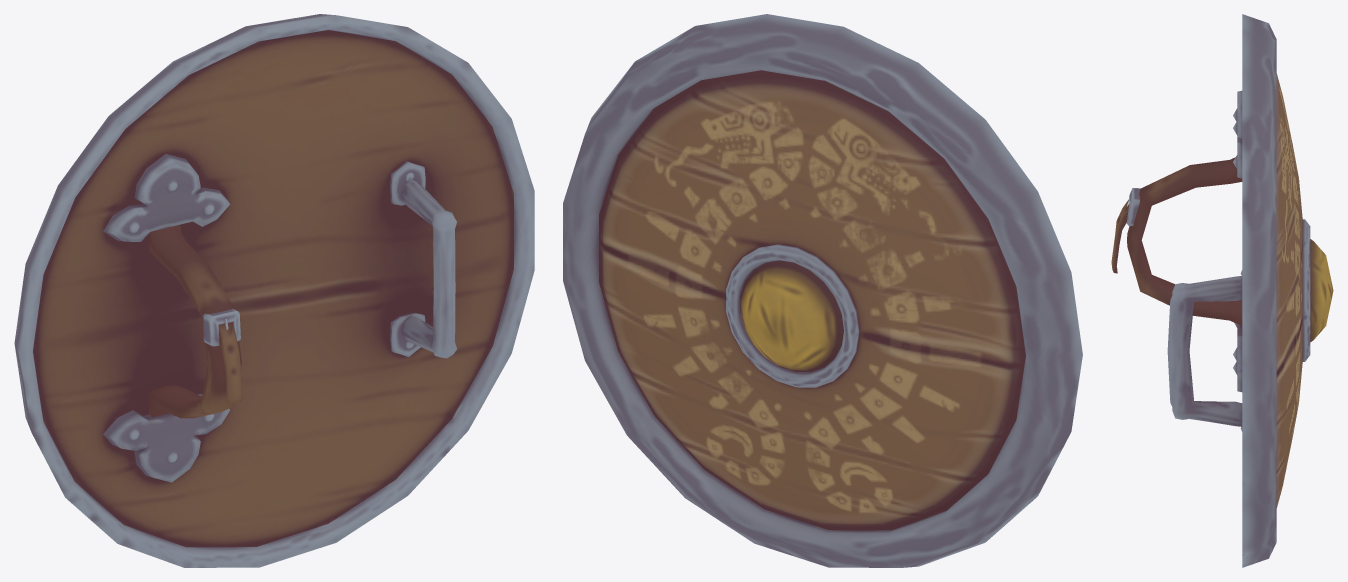
The model's file is Link_Shield.fbx.
The picture shows the model from 3 angles, left to right: view 1: azimuth 30°, elevation 25°; view 2: azimuth 150°, elevation 25°; view 3: azimuth 270°, elevation 25°; orthographic projection. The views are drawn at different scales.
Visible parts, largest first — view 1: Shield_Travelers Shield_0; view 2: Shield_Travelers Shield_0; view 3: Shield_Travelers Shield_0.
Boxes of the visible parts, x1,y1,x2,y2 form: Shield_Travelers Shield_0: [14, 14, 534, 567]; Shield_Travelers Shield_0: [563, 14, 1082, 567]; Shield_Travelers Shield_0: [1111, 14, 1333, 567].
Bounding box in the file's own units: 0.5815 × 0.5832 × 0.2337.
